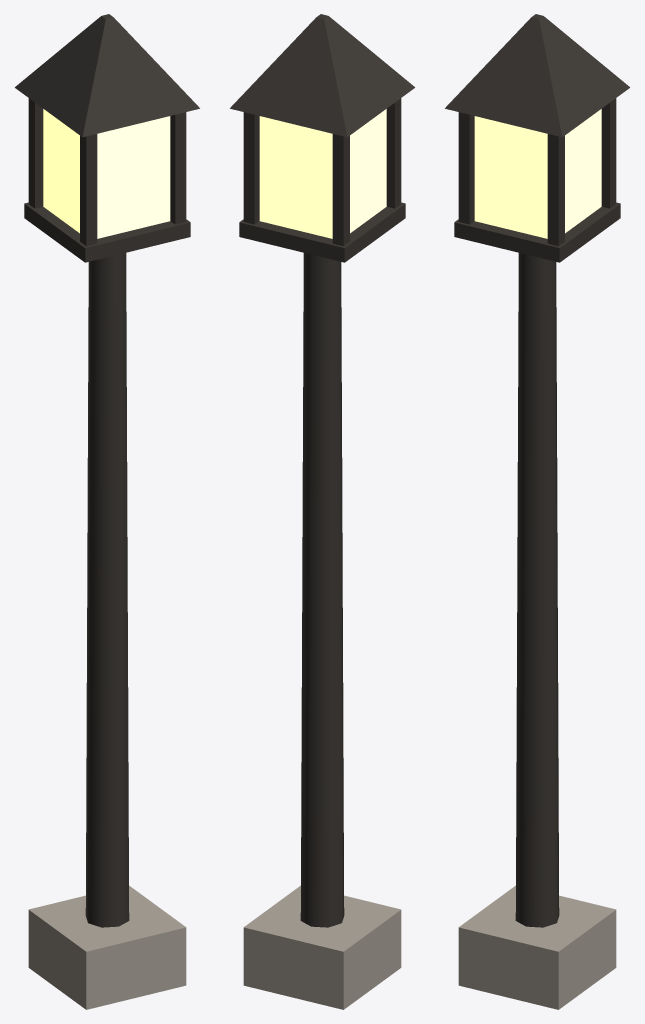
File: prop_lamp.glb
3 renders of one model, left to right at view 1: azimuth 30°, elevation 25°; view 2: azimuth 150°, elevation 25°; view 3: azimuth 330°, elevation 25°, orthographic.
Parts seen in each view (by area): view 1: Prop_Lamp; view 2: Prop_Lamp; view 3: Prop_Lamp.
Part boxes in pixels (box(x1,y1,x2,y2)): Prop_Lamp: box(15, 14, 199, 1009); Prop_Lamp: box(230, 14, 414, 1009); Prop_Lamp: box(445, 14, 629, 1009).
Bounding box in the file's own units: 0.4243 × 3.3 × 0.4243.
